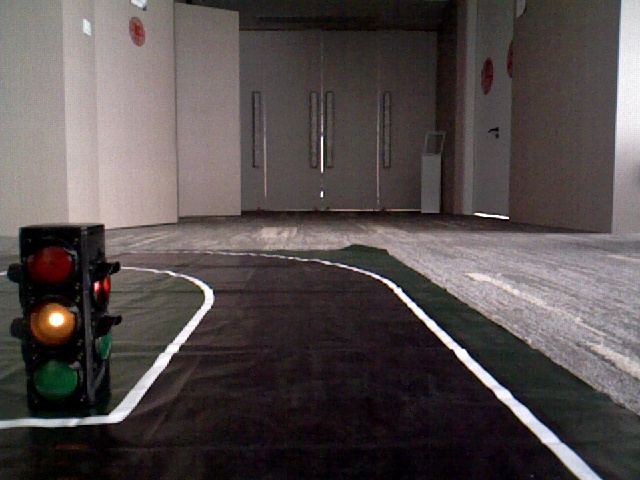yellow: (20, 228, 88, 401)
